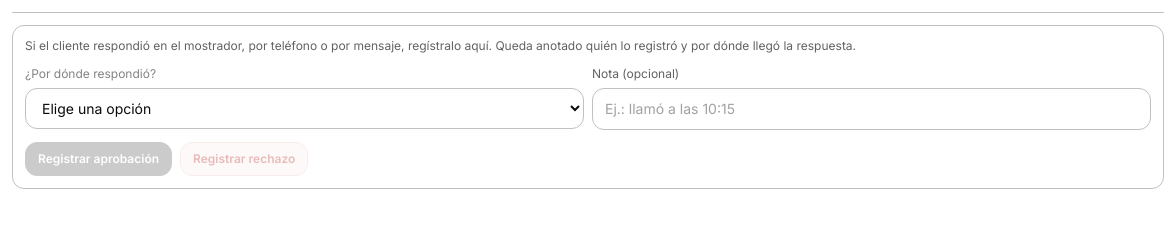
if the print dialog never comes, the button to print stays
Step 1. Select "Llamada" in the dropdown labelled "¿Por dónde respondió?" → [304, 108], box [25,88,584,129]
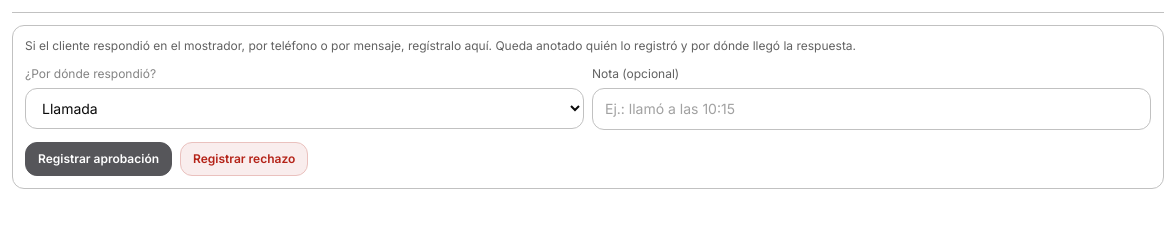
Step 2. Click the button "Registrar aprobación" → [98, 159], box [25,142,172,176]
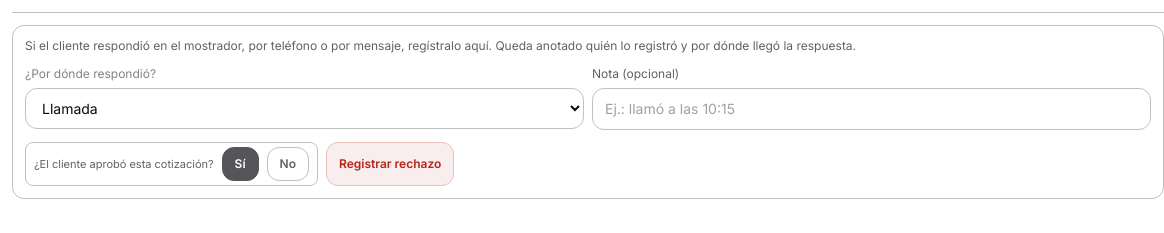
Step 3. Click the button "Sí" → [240, 164], box [222,147,259,181]
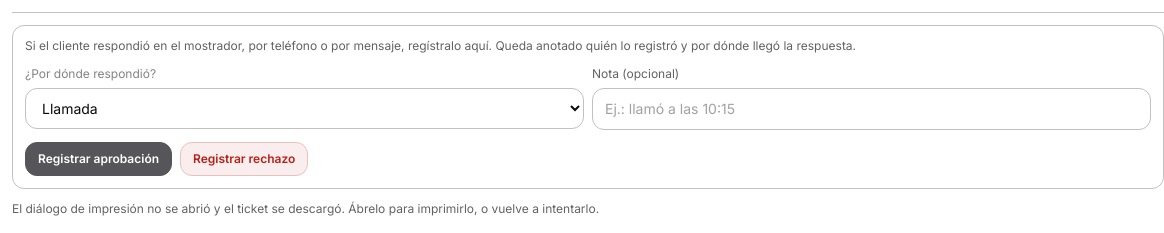
Now the text "se descargó" is shown, box [12,201,599,216]
